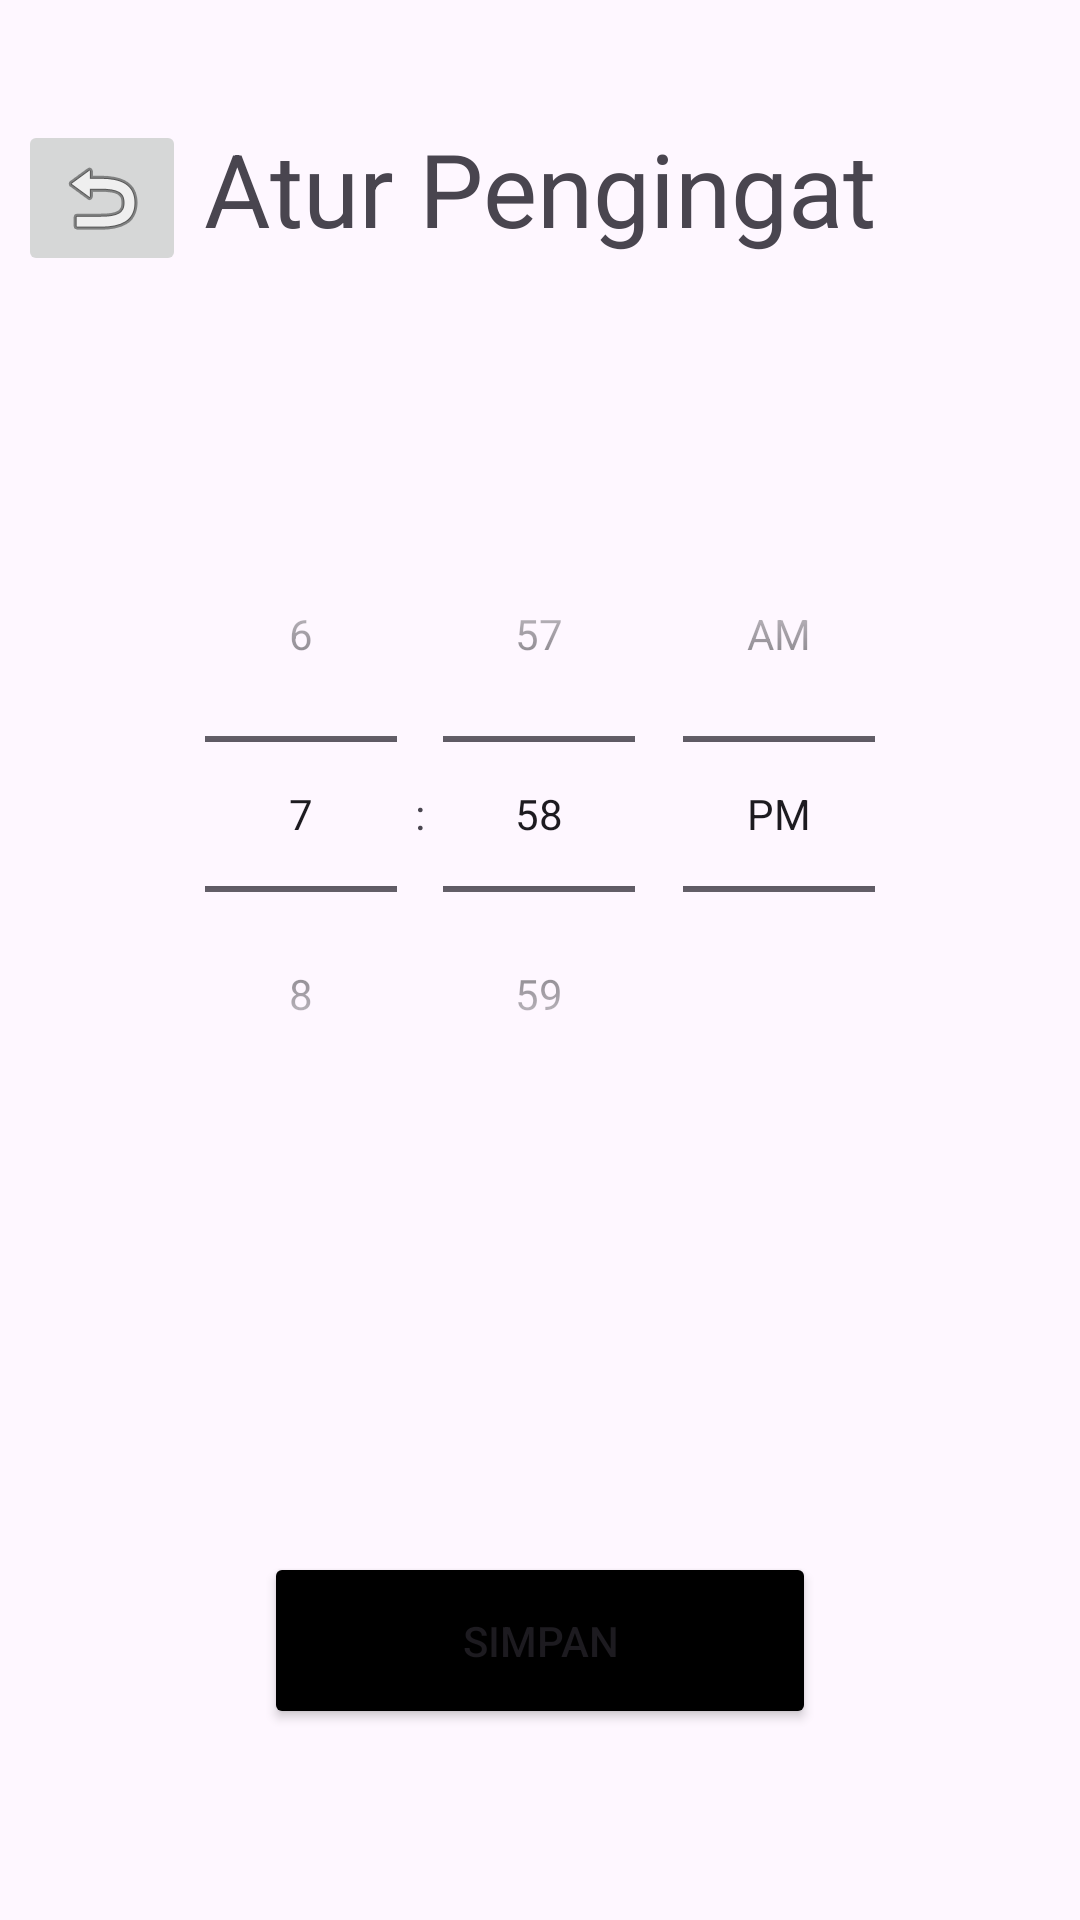

Named icons in this screenshot (1080 x 1920) and their bounding boxes, detection(x1, y1, x2, y2):
revert: detection(30, 138, 174, 258)
